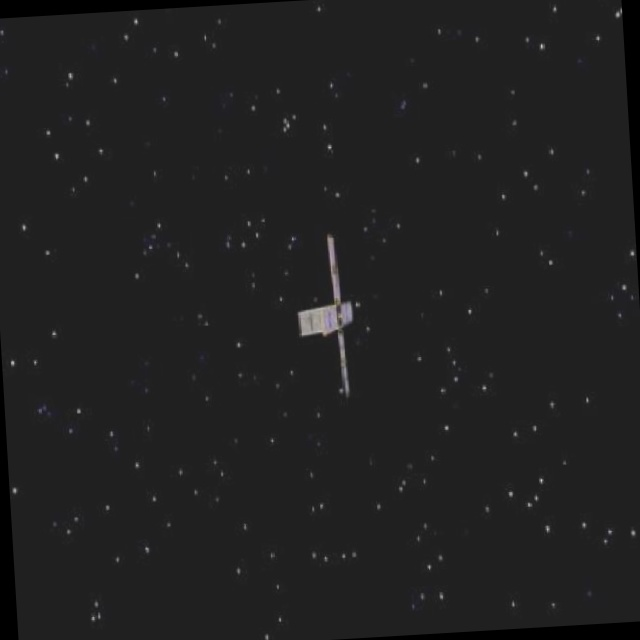medium_debris: (287, 225, 382, 407)
